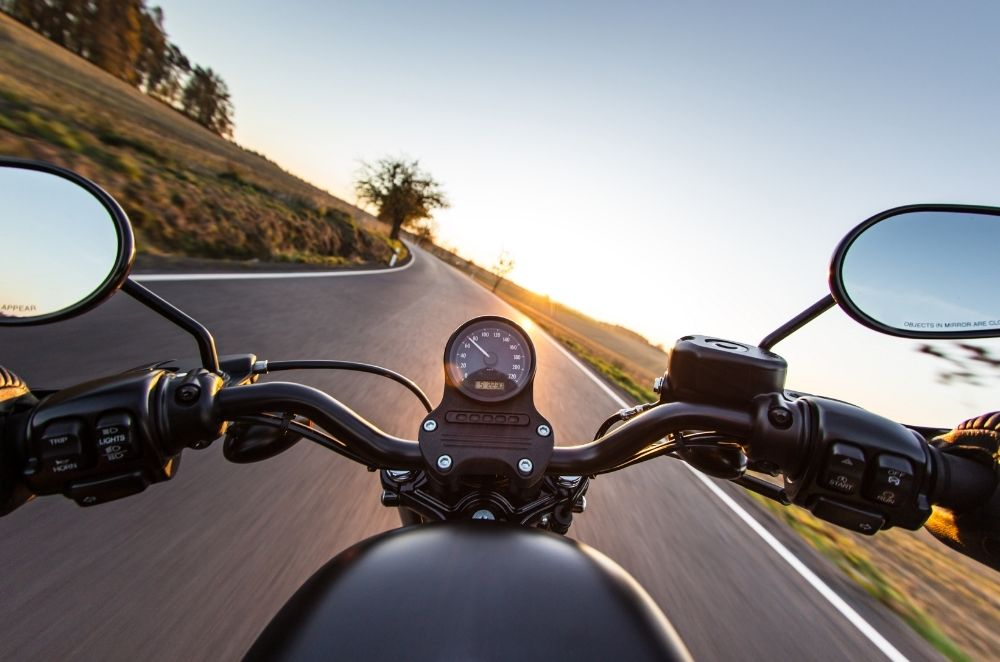Motorcycle: (10, 153, 1000, 653)
Tree: (351, 156, 451, 247)
